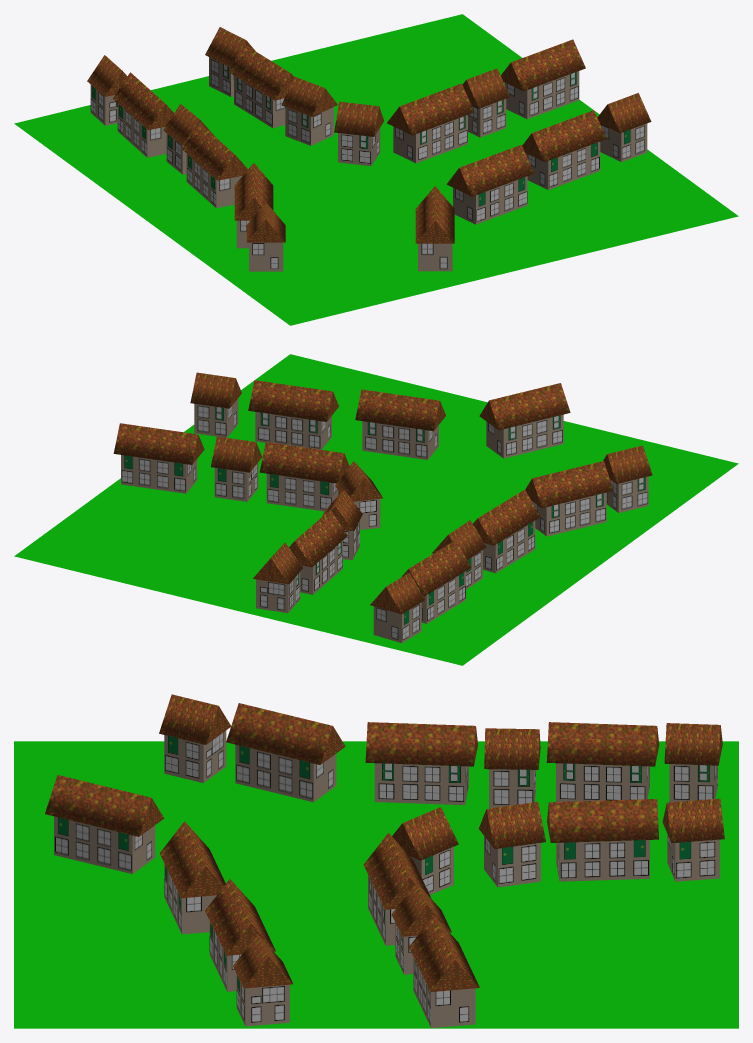
The model's file is village.glb.
3 renders of one model, top to bottom at view 1: azimuth 30°, elevation 25°; view 2: azimuth 150°, elevation 25°; view 3: azimuth 270°, elevation 25°, orthographic. The views are drawn at different scales.
Visible parts, largest first — view 1: ground, box_merged (×2), house6, house2, house4, house9, house11, house13, house3, house8, house7, house5 (+5 smaller); view 2: ground, box_merged (×2), house2, house4, house3, house6, house15, house11, house13, house9, house5, house14 (+5 smaller); view 3: ground, house15, house3, house11, house9, house13, box_merged (×2), house4, house16, house2, house8, house10 (+5 smaller).
Part boxes in pixels (<box>): ground: <box>14,14,738,325</box>; box_merged (×2): <box>522,93,651,189</box>; house6: <box>387,83,474,163</box>; house2: <box>446,144,534,224</box>; house4: <box>501,39,585,119</box>; house9: <box>228,44,293,128</box>; house11: <box>182,123,248,208</box>; house13: <box>113,72,173,157</box>; house3: <box>415,186,454,271</box>; house8: <box>281,76,337,145</box>; house7: <box>334,101,383,166</box>; house5: <box>462,68,509,137</box>; ground: <box>14,354,738,665</box>; box_merged (×2): <box>190,372,338,449</box>; house2: <box>355,389,445,459</box>; house4: <box>113,423,204,493</box>; house3: <box>479,383,570,458</box>; house6: <box>259,442,349,511</box>; house15: <box>525,461,613,536</box>; house11: <box>473,489,540,573</box>; house13: <box>401,540,471,623</box>; house9: <box>289,509,347,594</box>; house5: <box>211,436,262,501</box>; house14: <box>370,572,424,642</box>; ground: <box>14,741,738,1028</box>; house15: <box>226,703,345,802</box>; house3: <box>45,775,164,873</box>; house11: <box>365,722,477,805</box>; house9: <box>547,799,659,881</box>; house13: <box>546,722,659,801</box>; box_merged (×2): <box>205,879,292,1026</box>; house4: <box>409,915,479,1028</box>; house16: <box>159,694,230,782</box>; house2: <box>159,821,225,934</box>; house8: <box>478,802,545,887</box>; house10: <box>662,798,724,881</box>.
Size of the model in its own units: 15.19 by 1.71 by 16.
5 materials, 4 textured.
